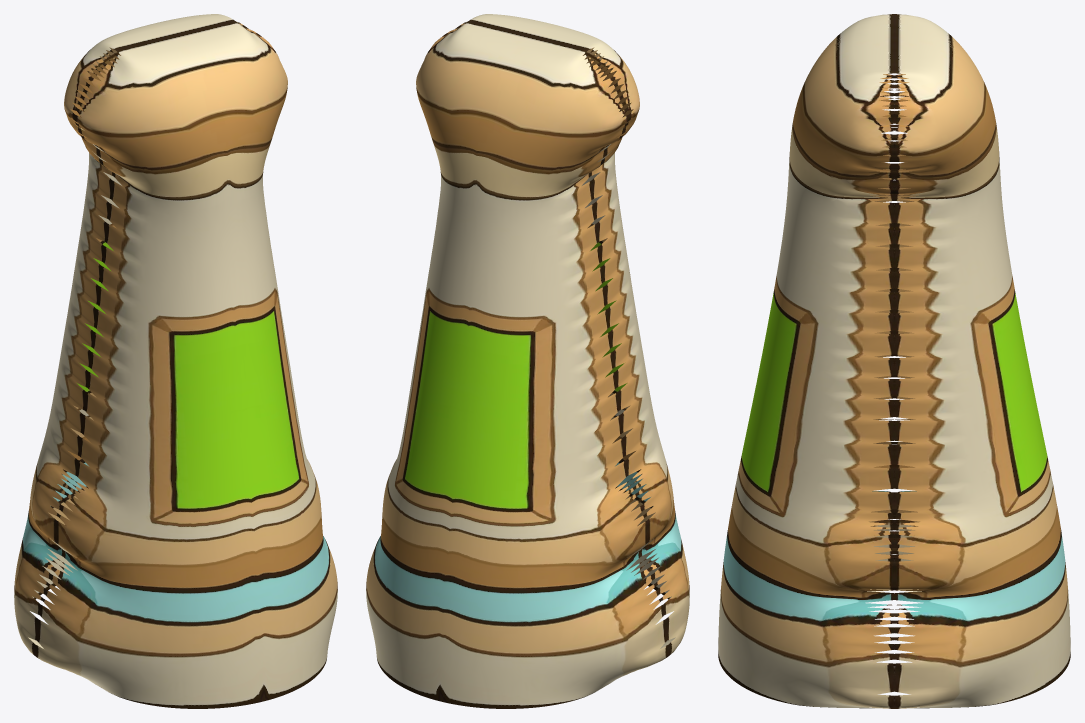
The model's file is window_pier.glb.
3 renders of one model, left to right at view 1: azimuth 30°, elevation 25°; view 2: azimuth 150°, elevation 25°; view 3: azimuth 270°, elevation 25°, orthographic.
Visible parts, largest first — view 1: window_pier; view 2: window_pier; view 3: window_pier.
Part boxes in pixels (x1,y1,x2,y2): window_pier: (14,14,337,708); window_pier: (366,14,689,708); window_pier: (718,14,1070,708).
Bounding box in the file's own units: 0.9778 × 2 × 1.04.
1 material, 1 textured.
